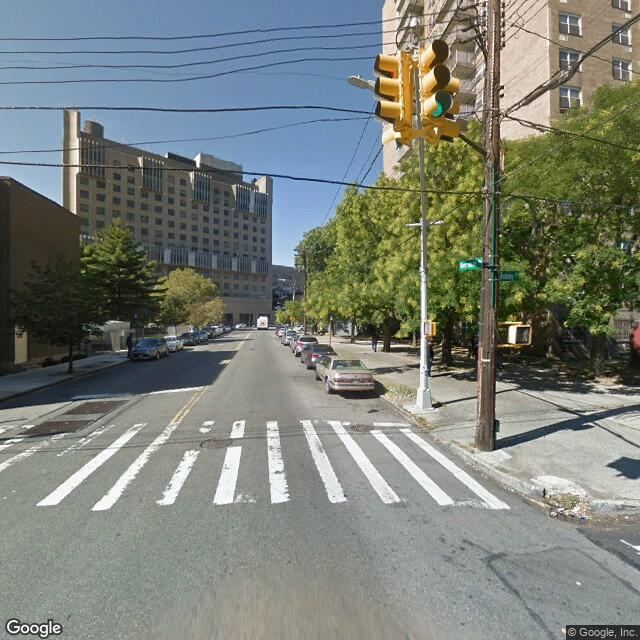litter: (547, 508, 578, 520), (573, 579, 583, 584)
